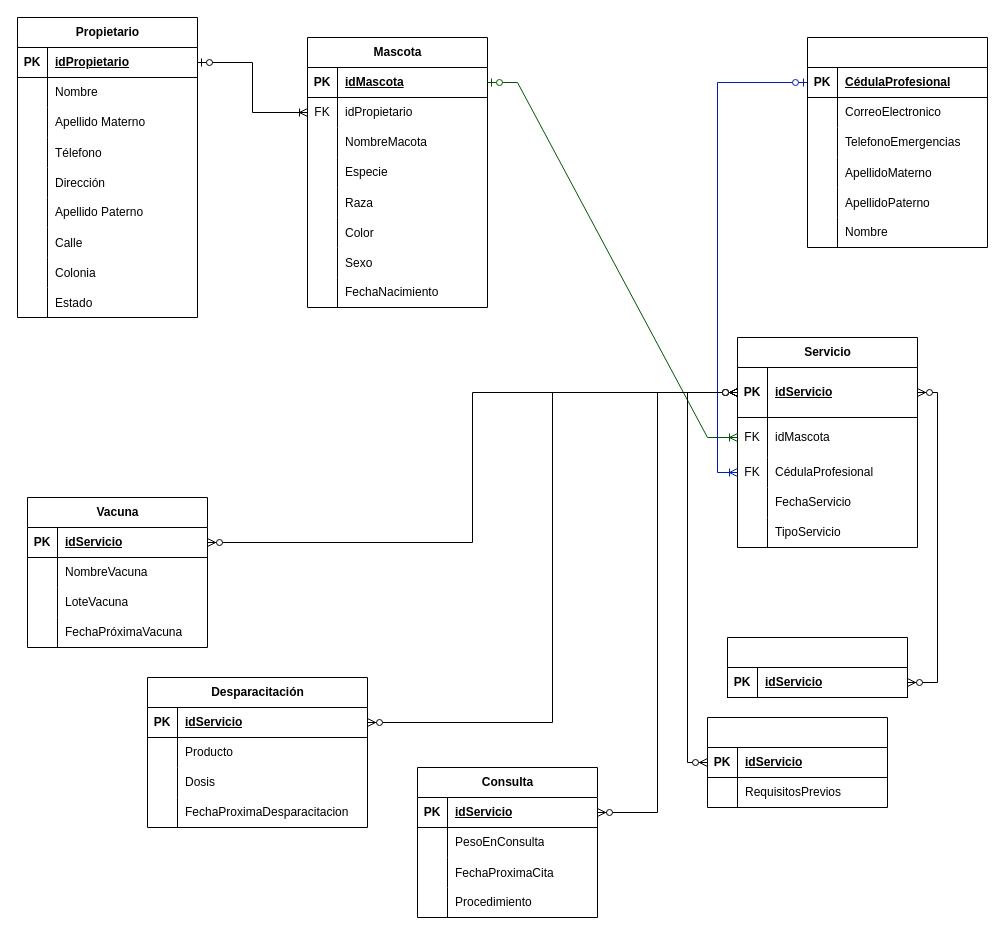
This 1005x935 diagram has some shape labels left out. The shapes that lost their labels are listed below. From the top down, each one's box as (x1, y1, x2, y2) in pixels, then its label:
(806, 36, 988, 248): Médico Veterinario
(726, 636, 908, 698): Esterilización
(706, 716, 888, 808): Cirugía General
